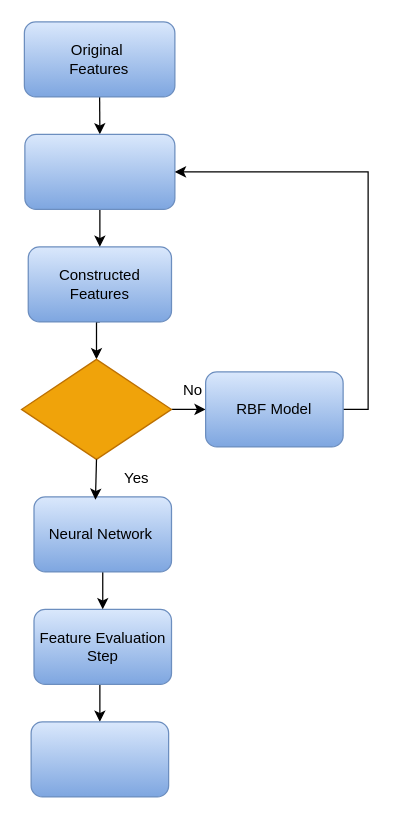
The diagram is 401 pixels wide and 819 high, and some of its shapes have lost their labels. The shapes that lost their labels are listed below. From the top down, each one's box as (x1, y1, x2, y2) in pixels, then its label:
(24, 133, 175, 209): Grammatical Evolution
(20, 358, 172, 459): STOP?
(30, 721, 169, 797): Report test error
